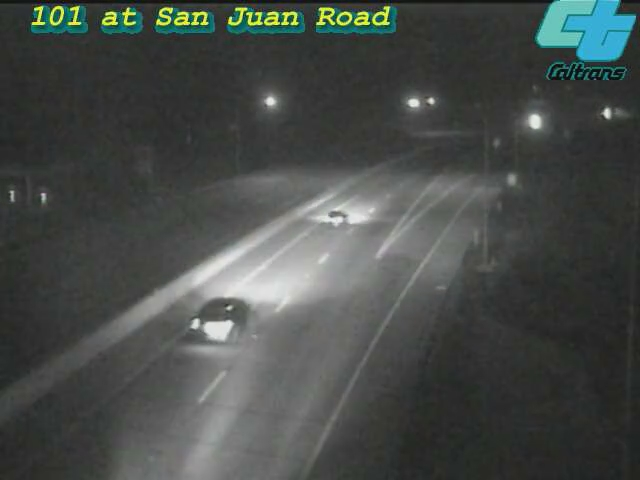vehicle: (300, 177, 380, 257), (187, 273, 267, 353), (507, 97, 557, 147), (583, 89, 633, 139), (596, 89, 640, 139)
